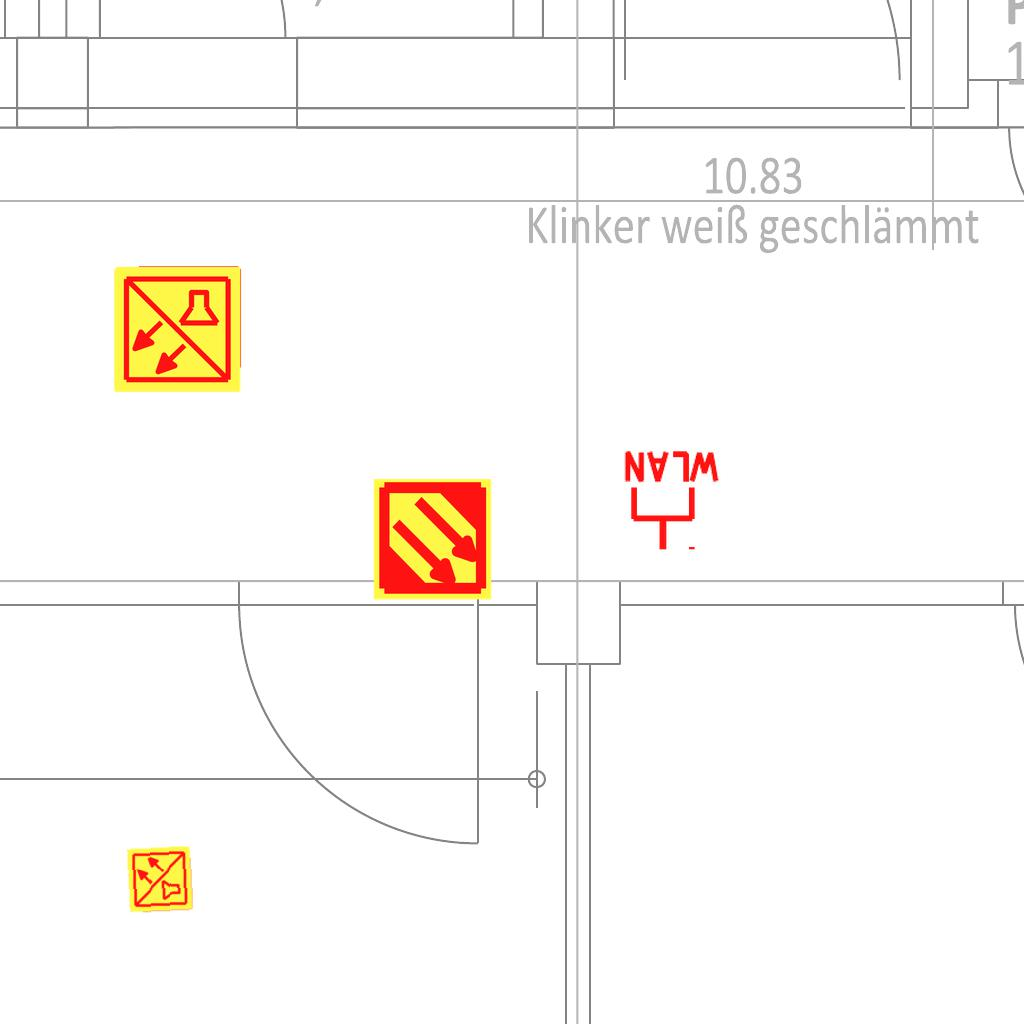ASR_Ansaugrauchmelder: (370, 477, 495, 602)
OKW_Multisensormelder_(Kombination_optischer_Rauch-Kahlenmonoxid_Waerme-Melder): (111, 263, 243, 395), (125, 844, 195, 914)
WLAN: (620, 449, 724, 554)
